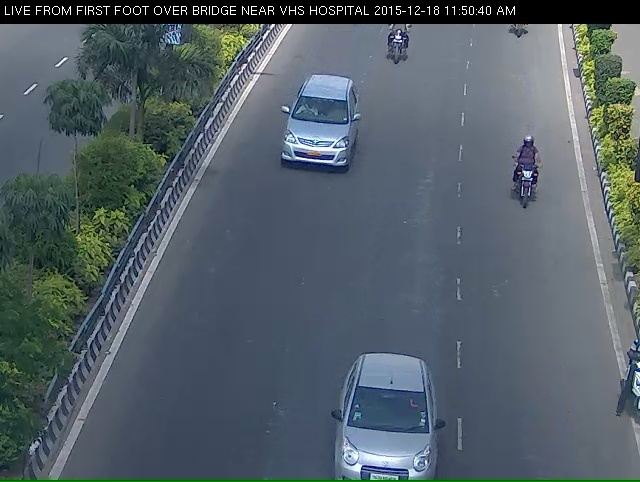Car: (321, 384, 444, 477), (273, 79, 358, 188)
Person: (509, 142, 548, 225), (384, 23, 414, 82)
